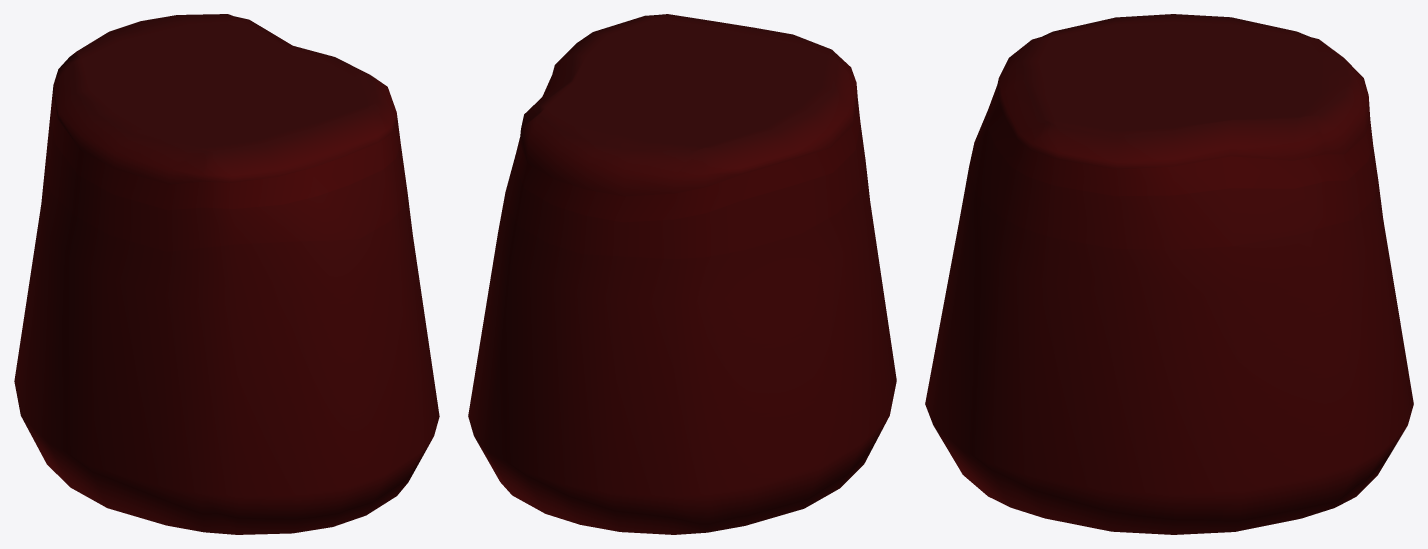
Rendered from geology-landforms-alienplateutiny_v3.fbx.
3 renders of one model, left to right at view 1: azimuth 30°, elevation 25°; view 2: azimuth 150°, elevation 25°; view 3: azimuth 270°, elevation 25°, orthographic. The views are drawn at different scales.
Visible parts, largest first — view 1: AlienPlateuTiny_v3; view 2: AlienPlateuTiny_v3; view 3: AlienPlateuTiny_v3.
Part boxes in pixels (box(x1,y1,x2,y2)): AlienPlateuTiny_v3: box(14, 14, 439, 534); AlienPlateuTiny_v3: box(468, 14, 896, 534); AlienPlateuTiny_v3: box(925, 14, 1413, 534).
Size of the model in its own units: 12.64 by 12.36 by 14.53.
